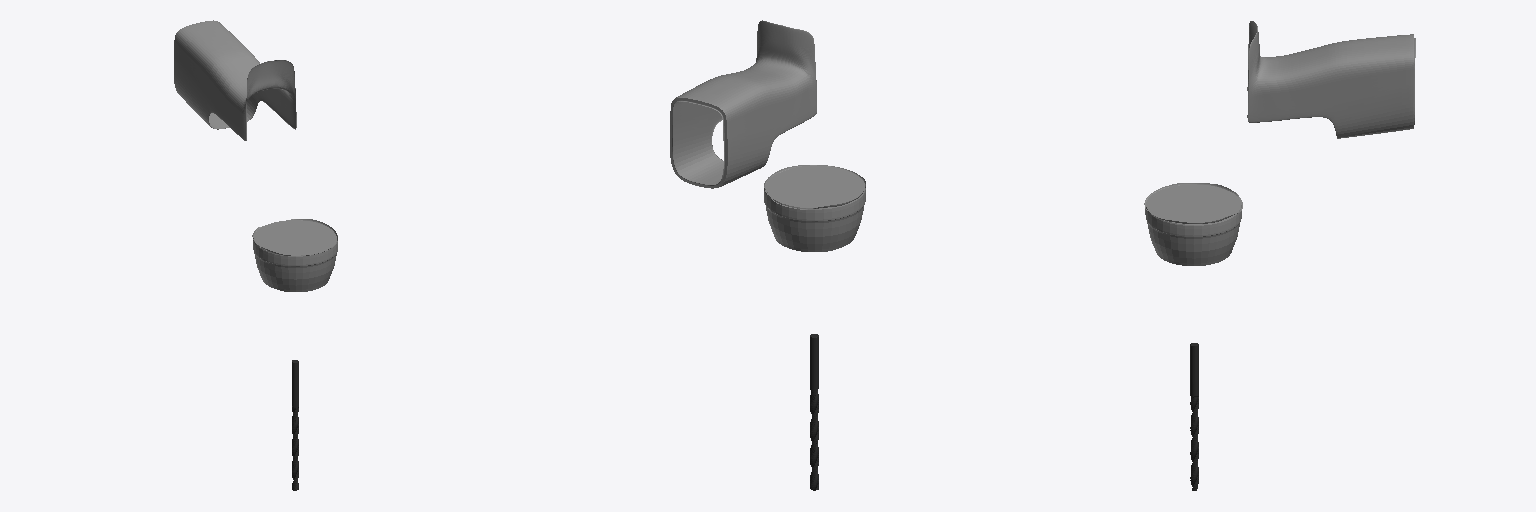
robot.urdf — drill:
<?xml version="1.0"?>
<!-- created with Phobos 1.0.1 "Capricious Choutengan" -->
  <robot name="drill">

    <link name="drillbit_bone">
      <inertial>
        <origin xyz="0 0 0" rpy="0 0 0"/>
        <mass value="0.001"/>
        <inertia ixx="0.001" ixy="0" ixz="0" iyy="0.001" iyz="0" izz="0.001"/>
      </inertial>
      <visual name="drillbit">
        <origin xyz="-0.00014 0.00027 0.0006" rpy="0 0 3.14159"/>
        <geometry>
          <mesh filename="meshes1/dae/g_Drillbit_01.dae" scale="0.07123 0.07123 0.07123"/>
        </geometry>
        <material name="mecha"/>
      </visual>
      <collision name="drillbit">
        <origin xyz="-0.00014 0.00027 -0.00017" rpy="0 0 3.14159"/>
        <geometry>
          <box size="0.00279 0.00279 0.05353"/>
        </geometry>
      </collision>
    </link>

    <link name="grip_bone">
      <inertial>
        <origin xyz="0 -0.06823 0" rpy="0 0 0"/>
        <mass value="1.5"/>
        <inertia ixx="0.001" ixy="0" ixz="0" iyy="0.001" iyz="0" izz="0.001"/>
      </inertial>
      <visual name="body1">
        <origin xyz="0.11413 -0.12082 -0.01876" rpy="1.5708 0 0"/>
        <geometry>
          <mesh filename="meshes1/dae/g_g_carcaza_carcaza001.dae" scale="0.07123 0.07123 0.07123"/>
        </geometry>
        <material name="mango"/>
      </visual>
      <collision name="body1.000">
        <origin xyz="0.11469 -0.12057 -0.01763" rpy="1.5708 0 0"/>
        <geometry>
          <mesh filename="meshes1/dae/g_g_carcaza_carcaza001.001.dae" scale="0.07123 0.07123 0.07123"/>
        </geometry>
      </collision>
    </link>

    <link name="root">
      <inertial>
        <origin xyz="0 0 0" rpy="0 0 0"/>
        <mass value="0.001"/>
        <inertia ixx="0.001" ixy="0" ixz="0" iyy="0.001" iyz="0" izz="0.001"/>
      </inertial>
      <visual name="body2">
        <origin xyz="0.11475 0.05071 -0.1449" rpy="-3.14159 0 0"/>
        <geometry>
          <mesh filename="meshes1/dae/g_g_soporte_del_taladro_soporte_del_taladro001.dae" scale="0.07123 0.07123 0.07123"/>
        </geometry>
        <material name="soporte__del_taladro"/>
      </visual>
      <visual name="body3">
        <origin xyz="0.11475 0.05071 -0.1449" rpy="-3.14159 0 0"/>
        <geometry>
          <mesh filename="meshes1/dae/g_g_taladro_taladro001.dae" scale="0.07123 0.07123 0.07123"/>
        </geometry>
        <material name="taladro"/>
      </visual>
      <visual name="body4">
        <origin xyz="0.11475 0.05071 -0.1449" rpy="-3.14159 0 0"/>
        <geometry>
          <mesh filename="meshes1/dae/meshId5_name.dae" scale="0.07123 0.07123 0.07123"/>
        </geometry>
        <material name="Carcasa"/>
      </visual>
      <collision name="body2">
        <origin xyz="0.00044 0.00046 -0.08283" rpy="-3.14159 0 0"/>
        <geometry>
          <sphere radius="0.01596"/>
        </geometry>
      </collision>
      <collision name="body3.000">
        <origin xyz="0.11451 0.05079 -0.14454" rpy="-3.14159 0 0"/>
        <geometry>
          <mesh filename="meshes1/dae/g_g_taladro_taladro001.001.dae" scale="0.24711 0.24711 0.24711"/>
        </geometry>
      </collision>
      <collision name="body4.000">
        <origin xyz="0.11523 0.05135 -0.14442" rpy="-3.14159 0 0"/>
        <geometry>
          <mesh filename="meshes1/dae/meshId5_name.001.dae" scale="0.24711 0.24711 0.24711"/>
        </geometry>
      </collision>
    </link>

    <joint name="drillbit_bone" type="fixed">
      <origin xyz="0.00052 0.00107 -0.18095" rpy="3.14159 0 0"/>
      <parent link="root"/>
      <child link="drillbit_bone"/>
    </joint>

    <joint name="grip_bone" type="fixed">
      <origin xyz="0.00063 0.03195 -0.02401" rpy="1.5708 0 0"/>
      <parent link="root"/>
      <child link="grip_bone"/>
    </joint>

    <material name="Carcasa">
      <color rgba="0.9569 0.9176 0.5882 1.0"/>
    </material>

    <material name="mango">
      <color rgba="0.5882 0.5882 0.5882 1.0"/>
    </material>

    <material name="mecha">
      <color rgba="0.2196 0.2196 0.2196 1.0"/>
    </material>

    <material name="soporte__del_taladro">
      <color rgba="0.588 0.588 0.588 1.0"/>
    </material>

    <material name="taladro">
      <color rgba="0.6157 0.5882 0.7843 1.0"/>
    </material>

  </robot>

--- Facts derived from the render (not from the file) ---
The picture shows the robot from 3 angles, left to right: view 1: azimuth 30°, elevation 25°; view 2: azimuth 150°, elevation 25°; view 3: azimuth 270°, elevation 25°; orthographic projection.
Model drill with 3 links and 2 joints (2 fixed), rooted at root, posed all joints at 0.
Links seen in each view (by area): view 1: grip_bone, root, drillbit_bone; view 2: grip_bone, root, drillbit_bone; view 3: grip_bone, root, drillbit_bone.
Boxes of the visible links, bbox=[...] form: grip_bone: bbox=[174, 20, 337, 255]; root: bbox=[253, 220, 337, 291]; drillbit_bone: bbox=[292, 360, 298, 490]; grip_bone: bbox=[670, 20, 865, 209]; root: bbox=[764, 166, 865, 251]; drillbit_bone: bbox=[810, 334, 818, 490]; grip_bone: bbox=[1144, 21, 1415, 223]; root: bbox=[1145, 184, 1241, 265]; drillbit_bone: bbox=[1190, 343, 1198, 490].
Size in the robot's own frame: 0.0319 by 0.0896 by 0.1688 metres.
3 mesh visuals loaded from 5 distinct referenced files (3 Collada DAE); not drawn: 2 (reference not matched to a file when rendering).
